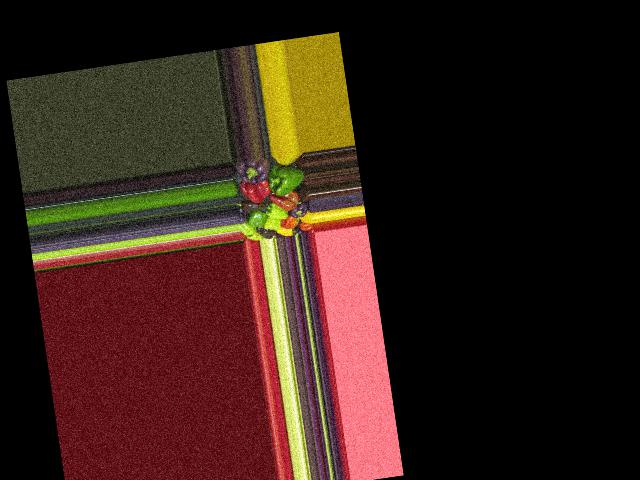bell_pepper: (288, 201, 310, 221)
